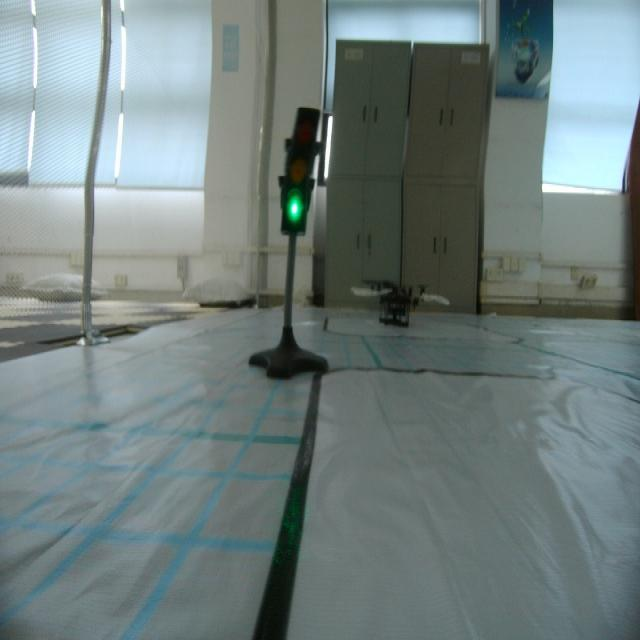green: (282, 100, 320, 239)
